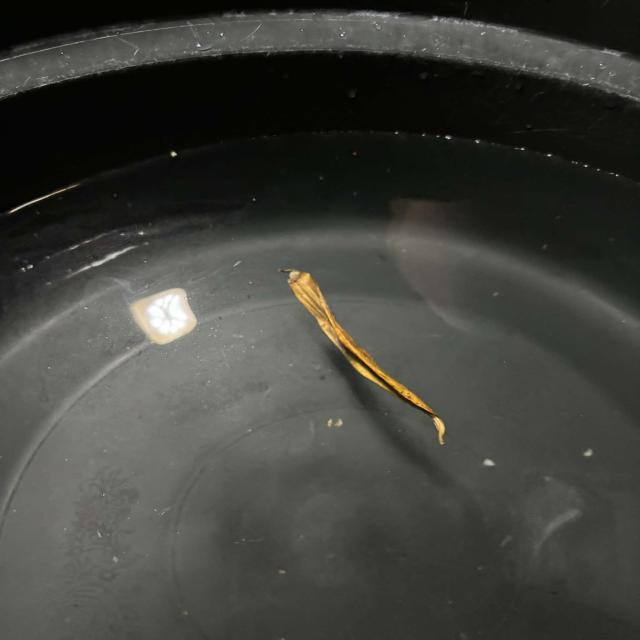Leaf: (276, 244, 466, 483)
